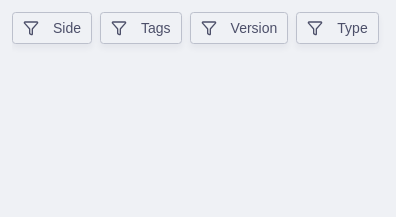
Test: installed version › shows installed version first in dropdown with label
The image size is (396, 217).
Click the button with test id "version-filter-button": click(239, 28) [190,12,288,44]
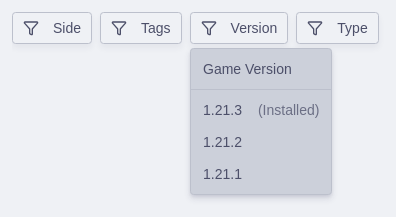
Check: the text "(Installed)" is shown, box [258,100,319,120]
Check: the menu item "1.21.3 (Installed)" is shown, box [203,102,319,118]
